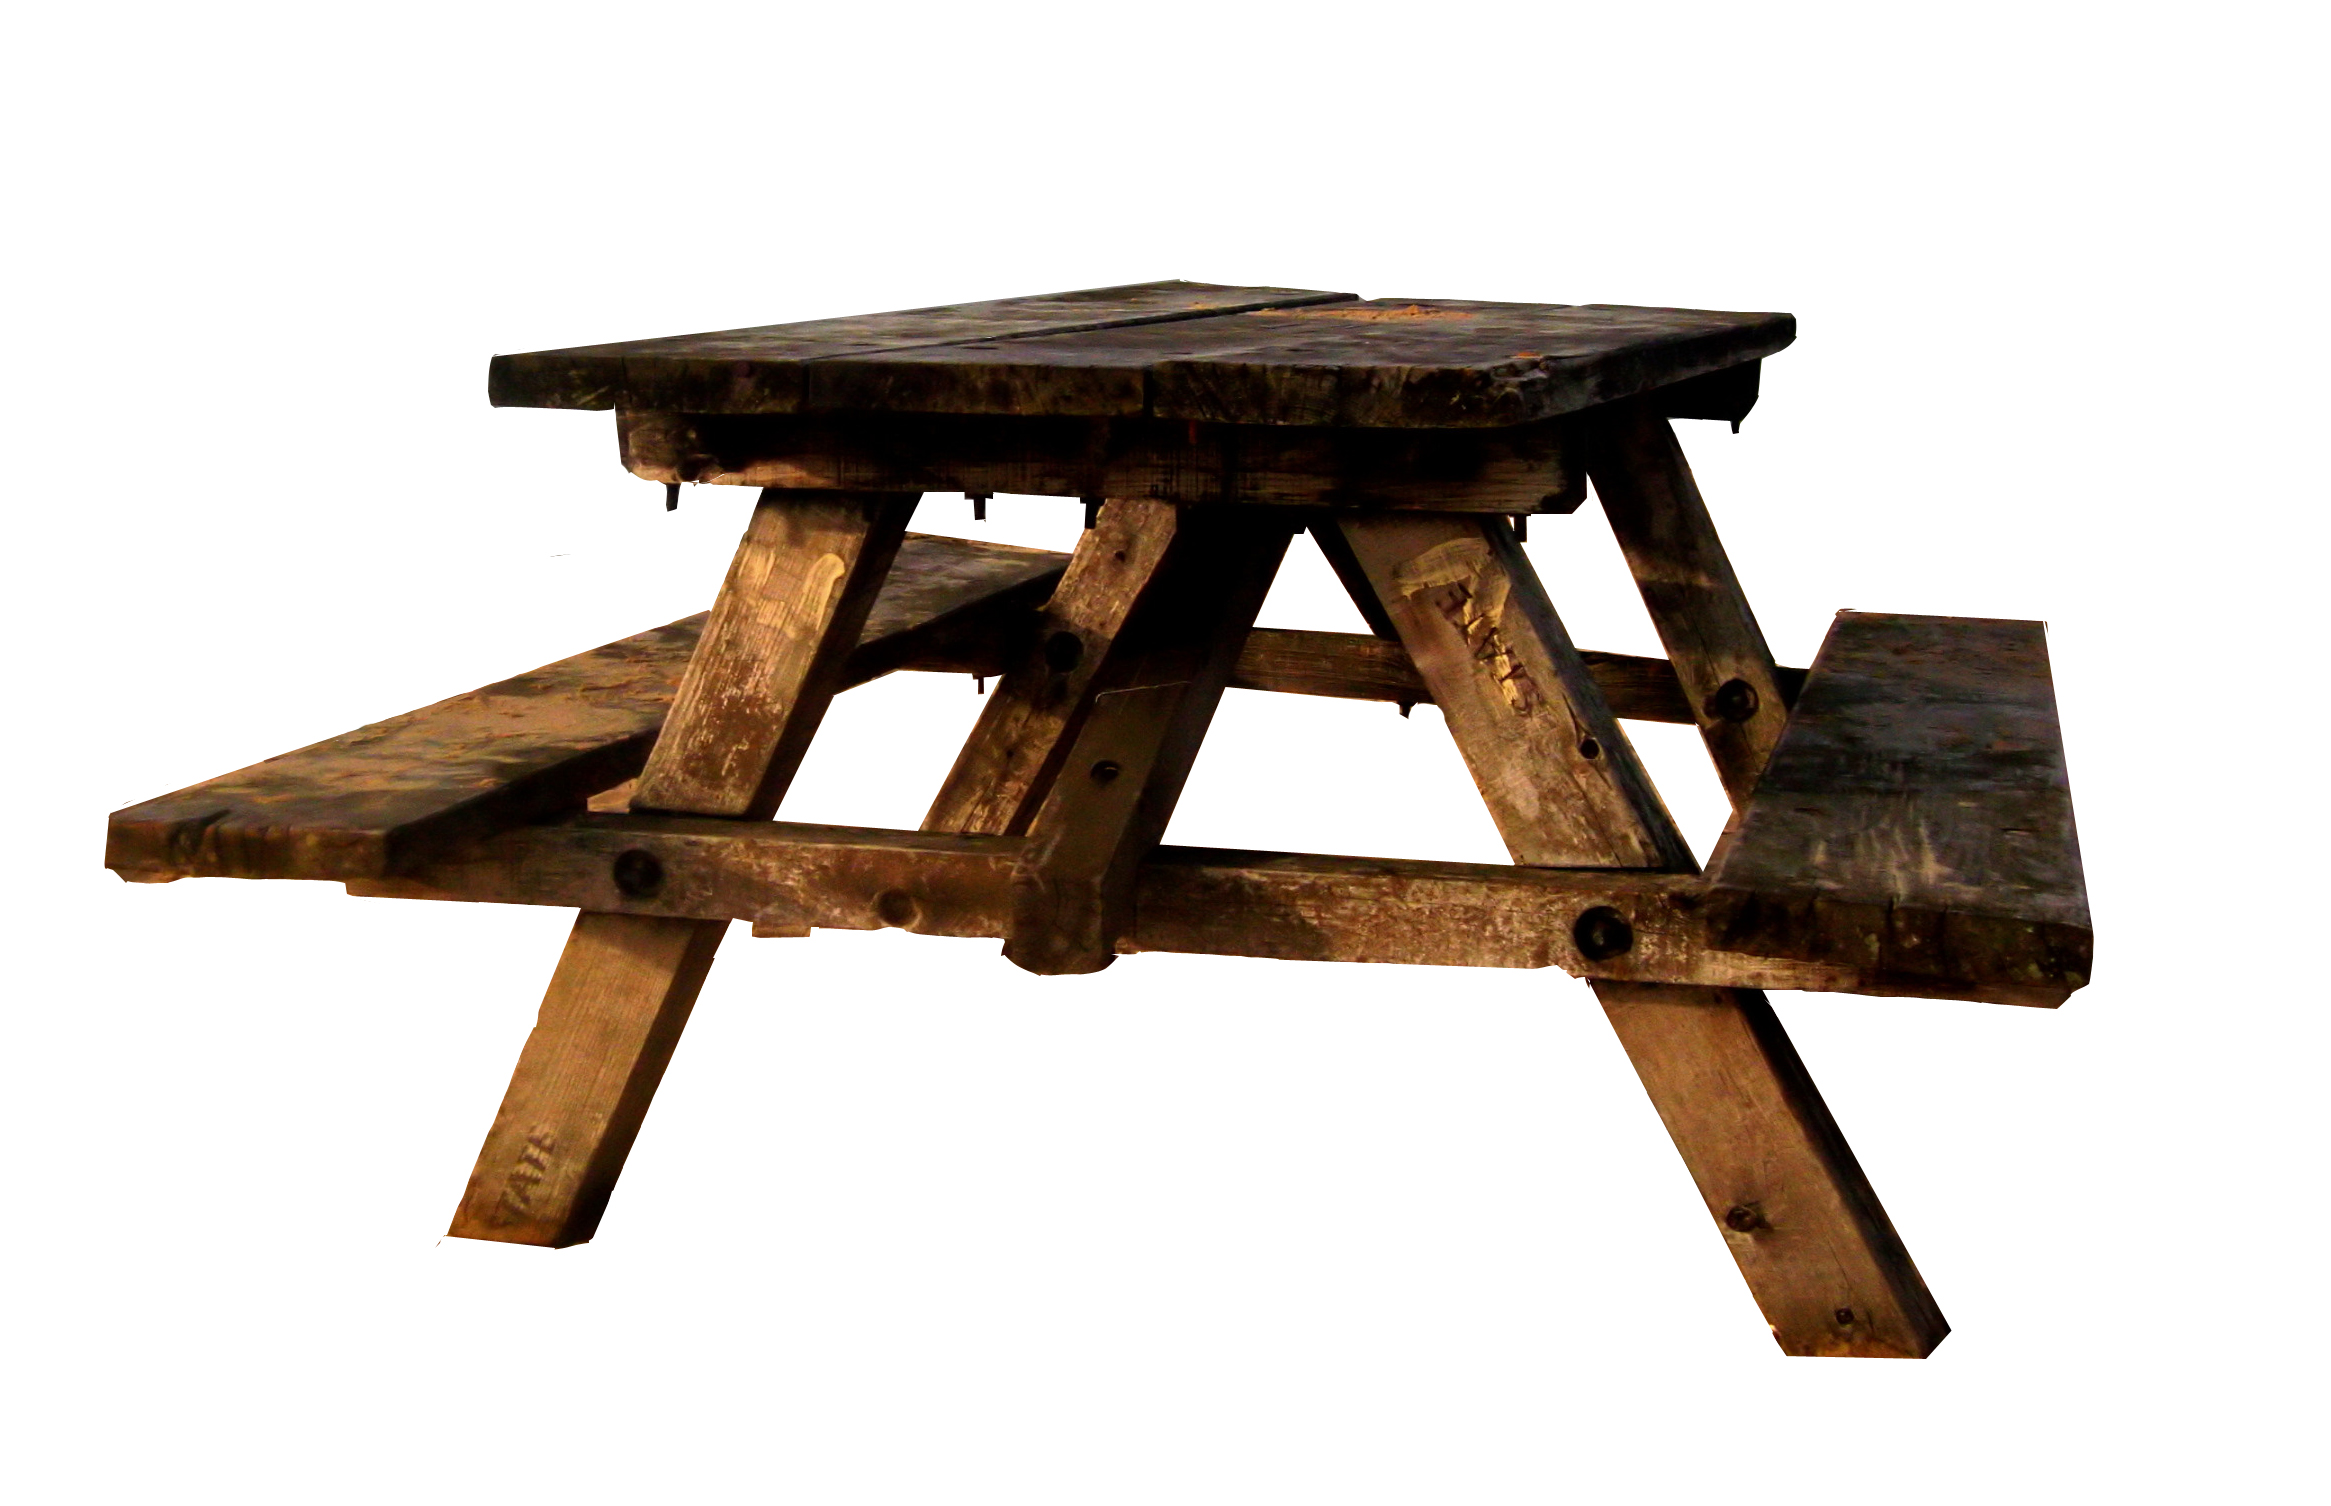obstacle: (102, 274, 2091, 1355)
